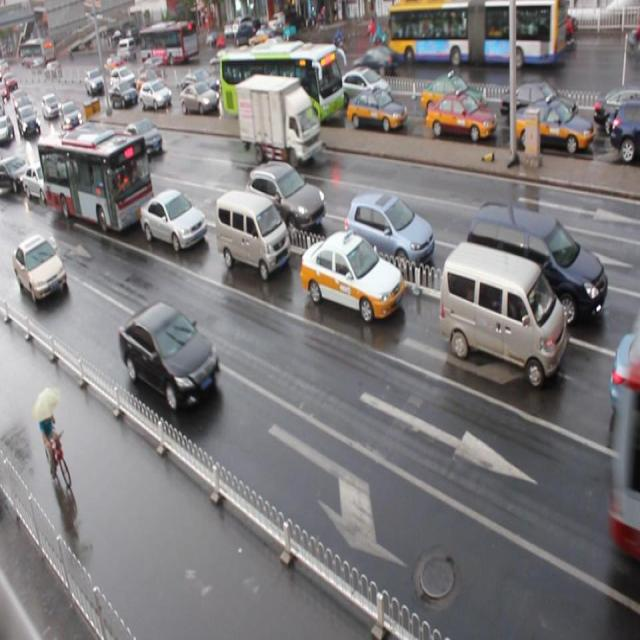bus: (236, 75, 321, 169)
car: (117, 302, 221, 409), (299, 228, 402, 322), (344, 194, 433, 274), (245, 159, 326, 236), (514, 99, 594, 159), (138, 187, 206, 252), (11, 234, 66, 304), (425, 92, 496, 143), (501, 82, 575, 128), (608, 331, 640, 435), (418, 76, 484, 121), (345, 86, 406, 134), (333, 66, 392, 111), (590, 92, 640, 133), (608, 99, 640, 160), (121, 119, 163, 161), (21, 158, 60, 203), (180, 83, 219, 114), (1, 154, 32, 192), (227, 69, 260, 103), (139, 80, 172, 112), (181, 69, 220, 96), (64, 130, 94, 162), (111, 81, 135, 110), (137, 69, 161, 92)
truck: (465, 198, 607, 332), (438, 240, 566, 388), (213, 187, 289, 280)
van: (37, 126, 154, 235), (216, 42, 339, 124), (612, 316, 640, 559)
